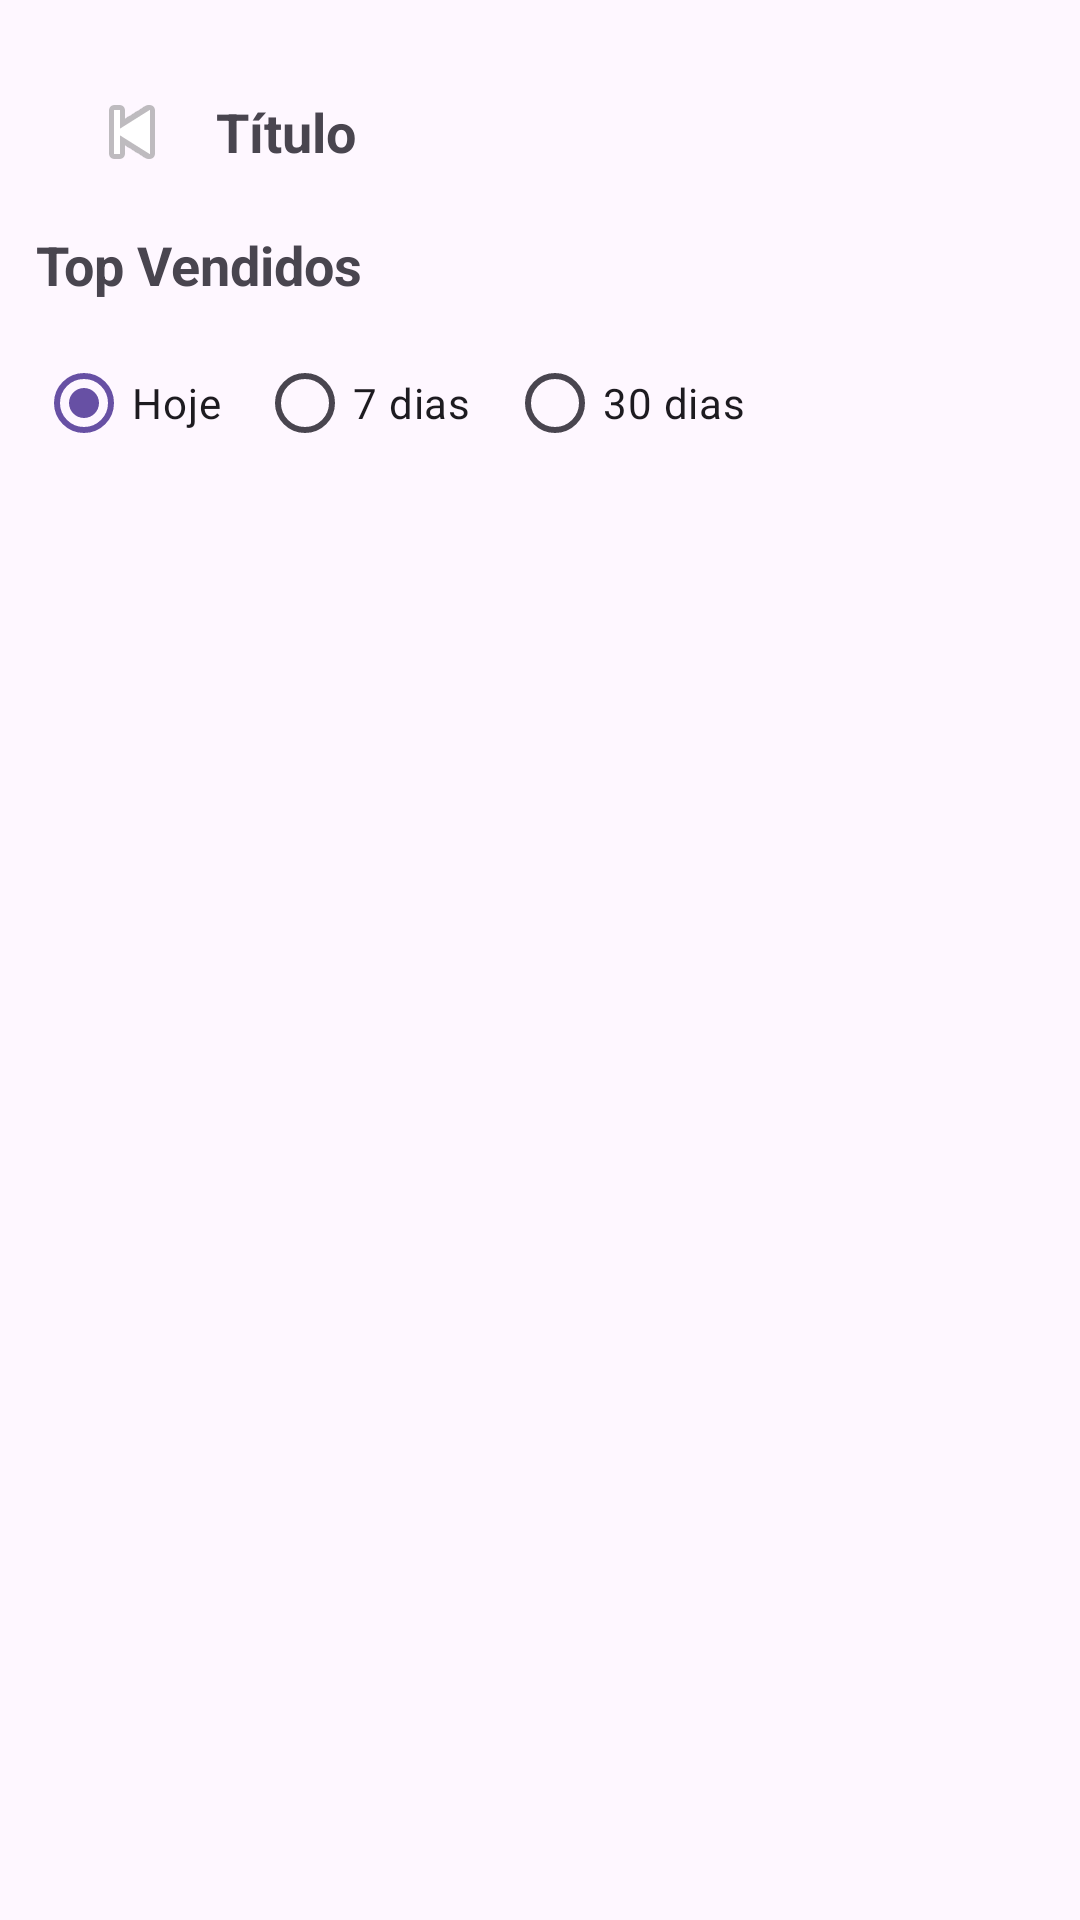

Named icons in this screenshot (1080x1920) and their centers, [x,y]:
Voltar: [132,132]
